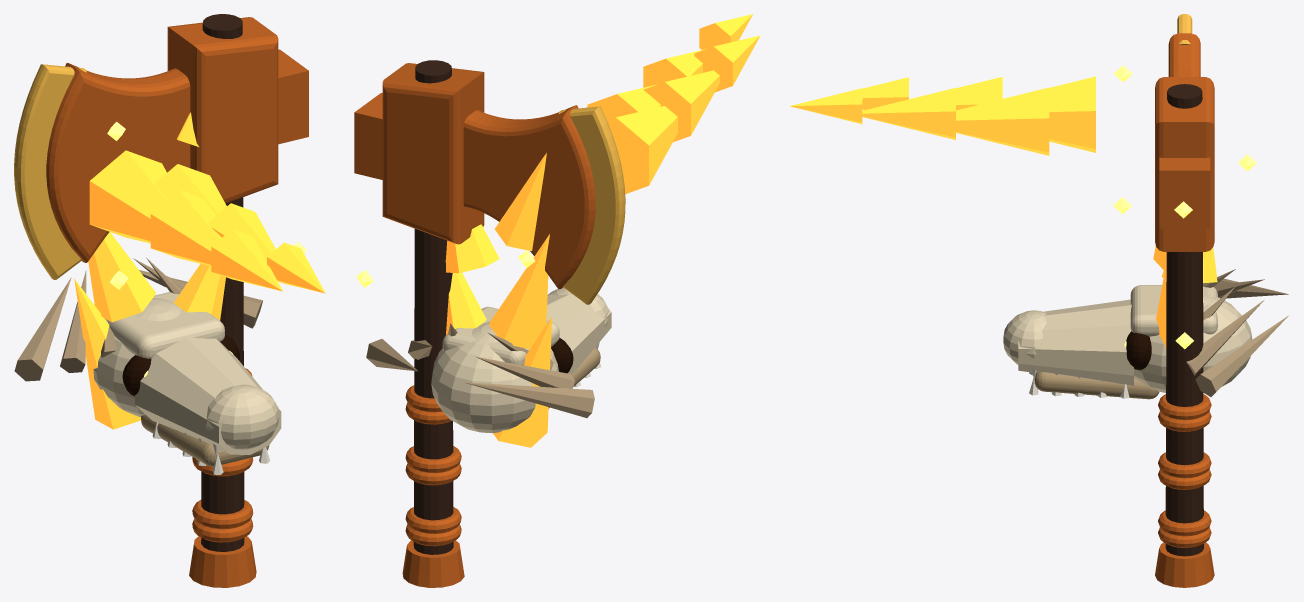
The model's file is draxe.glb.
3 renders of one model, left to right at view 1: azimuth 30°, elevation 25°; view 2: azimuth 150°, elevation 25°; view 3: azimuth 270°, elevation 25°, orthographic. The views are drawn at different scales.
Visible parts, largest first — view 1: head, flame, bone, edge, grip, horn, pommel, wrap, boneDark, socket, teeth, ember; view 2: head, flame, bone, grip, edge, horn, wrap, pommel, socket; view 3: flame, bone, head, grip, wrap, horn, pommel, boneDark, ember, socket.
Part boxes in pixels (left/top/right/bottom): head: left=46, top=17, right=308, bottom=262; flame: left=74, top=112, right=325, bottom=429; bone: left=93, top=292, right=281, bottom=454; edge: left=14, top=64, right=86, bottom=279; grip: left=201, top=14, right=244, bottom=551; horn: left=14, top=257, right=262, bottom=381; pommel: left=189, top=536, right=256, bottom=587; wrap: left=192, top=368, right=253, bottom=542; boneDark: left=141, top=415, right=269, bottom=466; socket: left=122, top=335, right=239, bottom=396; teeth: left=152, top=422, right=269, bottom=474; ember: left=107, top=121, right=306, bottom=376; head: left=354, top=63, right=595, bottom=289; flame: left=445, top=14, right=760, bottom=447; bone: left=431, top=287, right=611, bottom=433; grip: left=413, top=60, right=453, bottom=554; edge: left=558, top=106, right=625, bottom=304; horn: left=366, top=323, right=594, bottom=417; wrap: left=405, top=385, right=461, bottom=546; pommel: left=402, top=540, right=464, bottom=587; socket: left=551, top=338, right=573, bottom=373; flame: left=789, top=76, right=1217, bottom=348; bone: left=1003, top=285, right=1252, bottom=392; head: left=1155, top=33, right=1214, bottom=251; grip: left=1165, top=84, right=1203, bottom=556; wrap: left=1158, top=394, right=1211, bottom=547; horn: left=1186, top=269, right=1288, bottom=396; pommel: left=1155, top=542, right=1214, bottom=587; boneDark: left=1034, top=372, right=1159, bottom=399; ember: left=1113, top=65, right=1256, bottom=349; socket: left=1126, top=331, right=1151, bottom=369.
Size of the model in its own units: 1.38 by 2.5 by 2.34.
